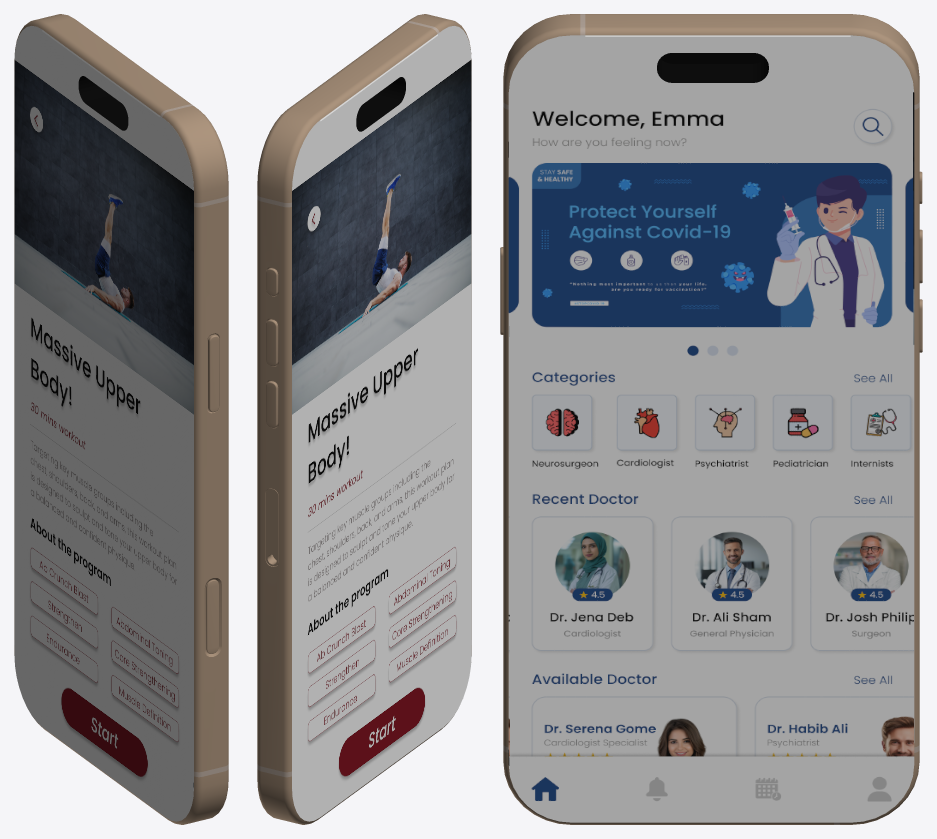
Rendered from Animated_fitness_health.gltf.
3 renders of one model, left to right at view 1: azimuth 30°, elevation 25°; view 2: azimuth 150°, elevation 25°; view 3: azimuth 270°, elevation 25°, orthographic. The views are drawn at different scales.
Parts seen in each view (by area): view 1: Cube.014_screen.001_0.006, Cube.014_metalframe.002_0.006, Cube.014_black.002_0.011, Cube.014_basecolor.001_0.006; view 2: Cube.014_screen.001_0.006, Cube.014_metalframe.002_0.006, Cube.014_black.002_0.011, Cube.017_metalframe.002_0.005, Cube.014_basecolor.001_0.006; view 3: Cube.014_screen.001_0.006, Cube.014_metalframe.002_0.006, Cube.014_black.002_0.011.
Part boxes in pixels (x1,y1,x2,y2): Cube.014_screen.001_0.006: (14, 26, 193, 821); Cube.014_metalframe.002_0.006: (14, 14, 228, 824); Cube.014_black.002_0.011: (78, 76, 128, 130); Cube.014_basecolor.001_0.006: (14, 71, 228, 777); Cube.014_screen.001_0.006: (292, 26, 471, 821); Cube.014_metalframe.002_0.006: (257, 14, 471, 824); Cube.014_black.002_0.011: (356, 77, 405, 131); Cube.017_metalframe.002_0.005: (266, 488, 278, 566); Cube.014_basecolor.001_0.006: (257, 21, 471, 814); Cube.014_screen.001_0.006: (508, 35, 914, 822); Cube.014_metalframe.002_0.006: (500, 14, 922, 824); Cube.014_black.002_0.011: (657, 53, 768, 82).
Size of the model in its own units: 0.0887 by 1.68 by 0.8084.
10 materials, 2 textured.
